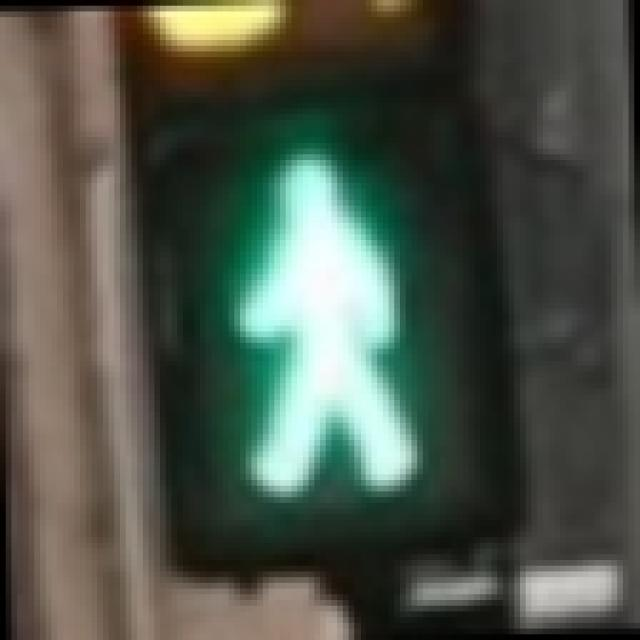green_light: (132, 92, 497, 537)
